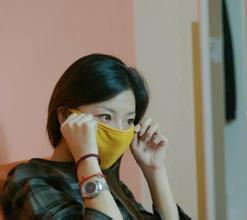OK: (73, 105, 139, 172)
